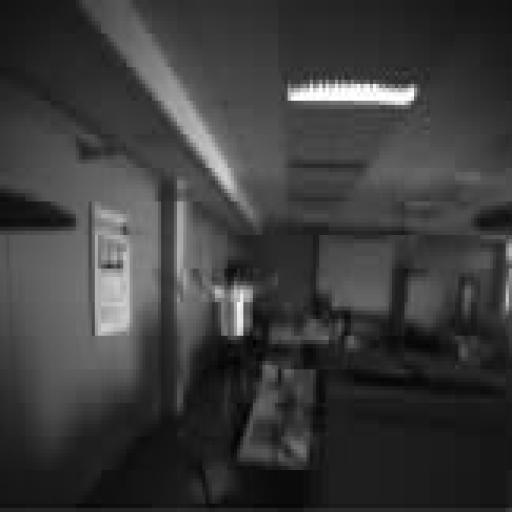human: (193, 261, 278, 415)
